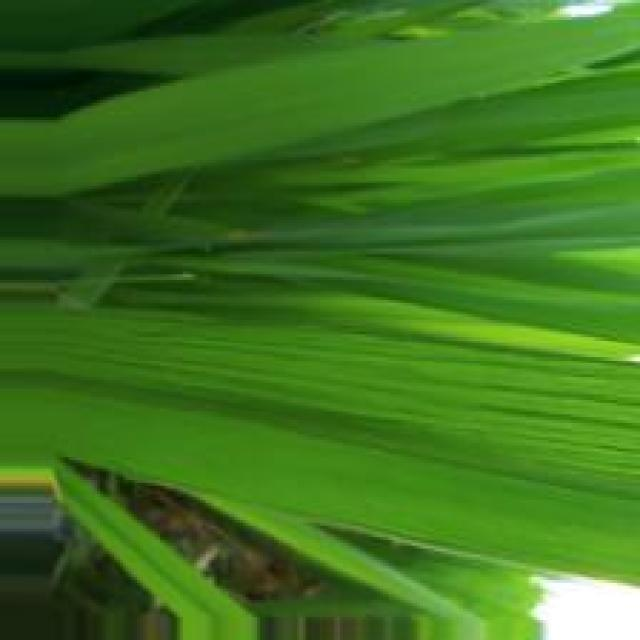HealthyLeaf: (6, 307, 640, 586), (10, 11, 640, 193), (195, 136, 620, 304)
